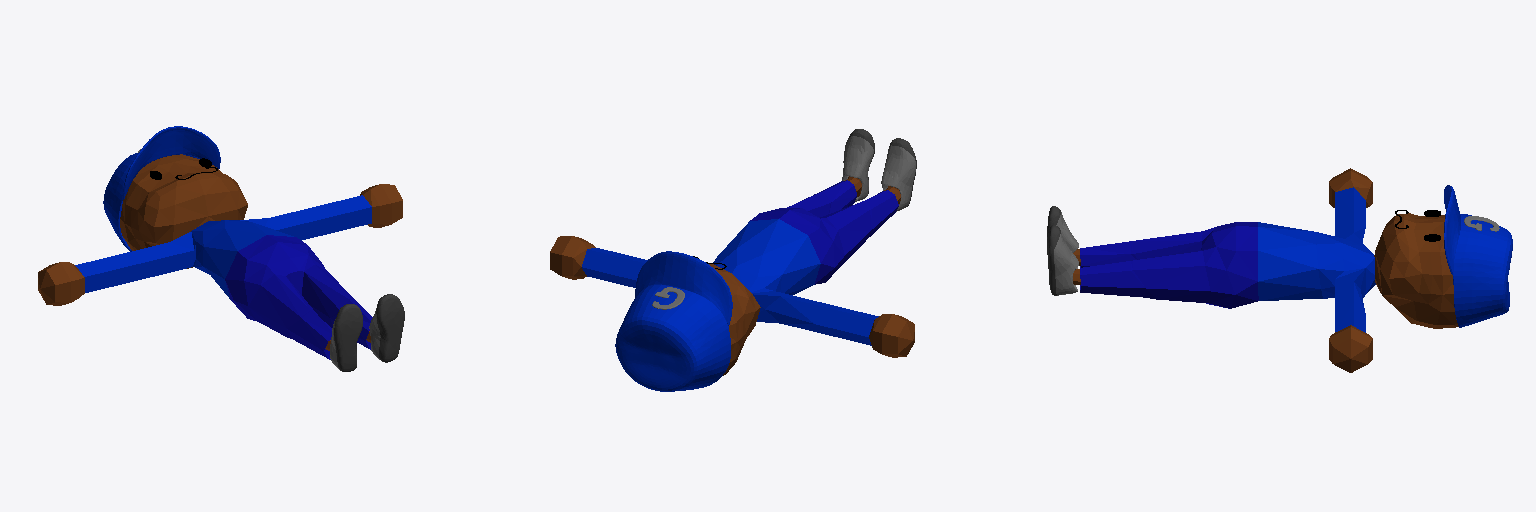
Rendered from person1.obj.
The picture shows the model from 3 angles: view 1: azimuth 30°, elevation 25°; view 2: azimuth 150°, elevation 25°; view 3: azimuth 270°, elevation 25°; orthographic projection.
Parts seen in each view (by area): view 1: Haut, Pantalon, Tete, Casquette, Chaussures; view 2: Haut, Casquette, Pantalon, Chaussures, Tete; view 3: Haut, Pantalon, Tete, Casquette, Chaussures.
Boxes of the visible parts, box(x1,y1,x2,y2) form: Haut: box(38, 184, 402, 305); Pantalon: box(225, 235, 372, 359); Tete: box(120, 154, 247, 268); Casquette: box(103, 126, 220, 251); Chaussures: box(330, 294, 404, 371); Haut: box(550, 219, 914, 357); Casquette: box(615, 251, 732, 391); Pantalon: box(750, 180, 898, 284); Chaussures: box(842, 129, 916, 211); Tete: box(709, 264, 760, 375); Haut: box(1258, 168, 1375, 372); Pantalon: box(1080, 222, 1258, 308); Tete: box(1374, 213, 1458, 328); Casquette: box(1444, 185, 1512, 327); Chaussures: box(1047, 206, 1078, 295).
Bounding box in the file's own units: 28.61 × 9.96 × 31.94.